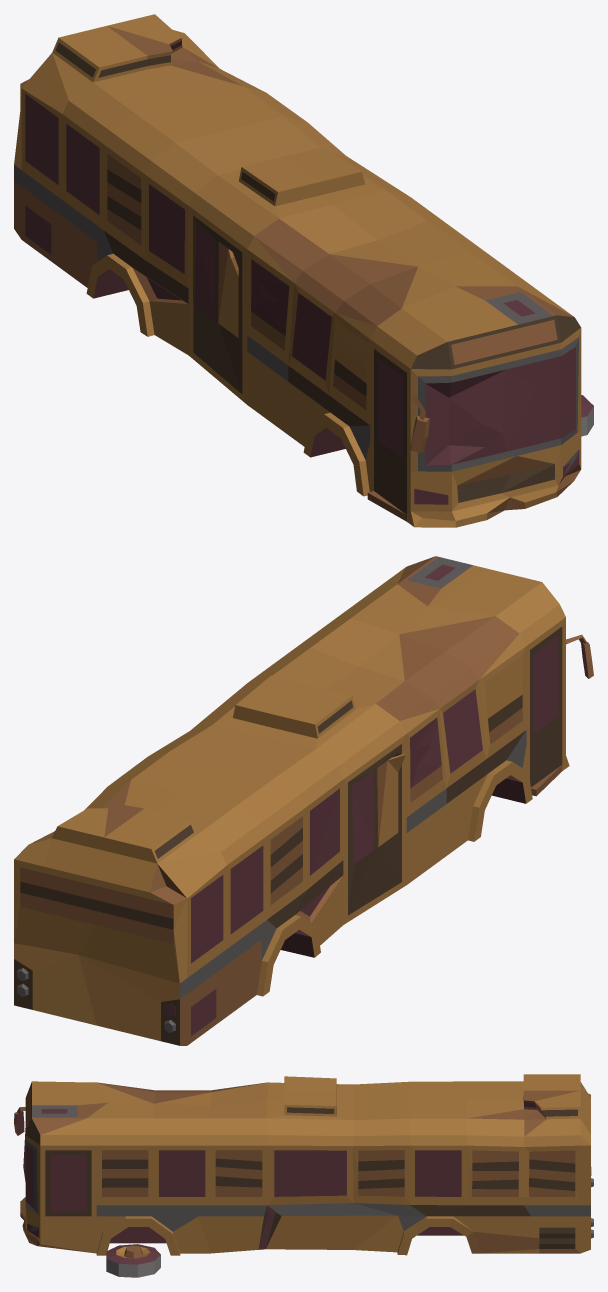
The model's file is bus-passenger-destroyed-apocalypse.fbx.
The picture shows the model from 3 angles, top to bottom: view 1: azimuth 30°, elevation 25°; view 2: azimuth 150°, elevation 25°; view 3: azimuth 270°, elevation 25°; orthographic projection. The views are drawn at different scales.
Visible parts, largest first — view 1: bus-passenger-destroyed-apocalypse; view 2: bus-passenger-destroyed-apocalypse; view 3: bus-passenger-destroyed-apocalypse.
Boxes of the visible parts, x1=… form: bus-passenger-destroyed-apocalypse: x1=14, y1=14, x2=593, y2=527; bus-passenger-destroyed-apocalypse: x1=14, y1=556, x2=593, y2=1045; bus-passenger-destroyed-apocalypse: x1=14, y1=1074, x2=593, y2=1277.
Size of the model in its own units: 3.98 by 2.87 by 11.24.
